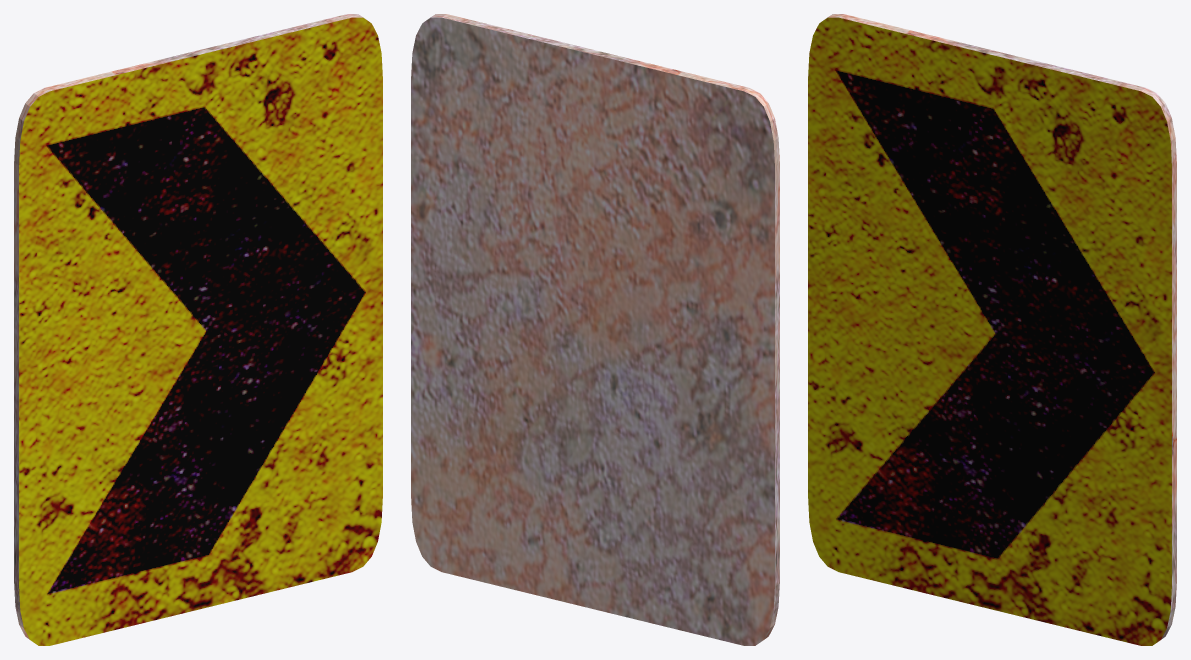
File: flat_arrow.FBX
3 views of the same model, side by side, from view 1: azimuth 30°, elevation 25°; view 2: azimuth 150°, elevation 25°; view 3: azimuth 330°, elevation 25° (orthographic).
Parts seen in each view (by area): view 1: Flat_arrow; view 2: Flat_arrow; view 3: Flat_arrow.
Part boxes in pixels (left/top/right/bottom): Flat_arrow: left=14, top=14, right=382, bottom=645; Flat_arrow: left=411, top=14, right=779, bottom=645; Flat_arrow: left=808, top=14, right=1176, bottom=645.
Bounding box in the file's own units: 52.9 × 77.06 × 1.24.
